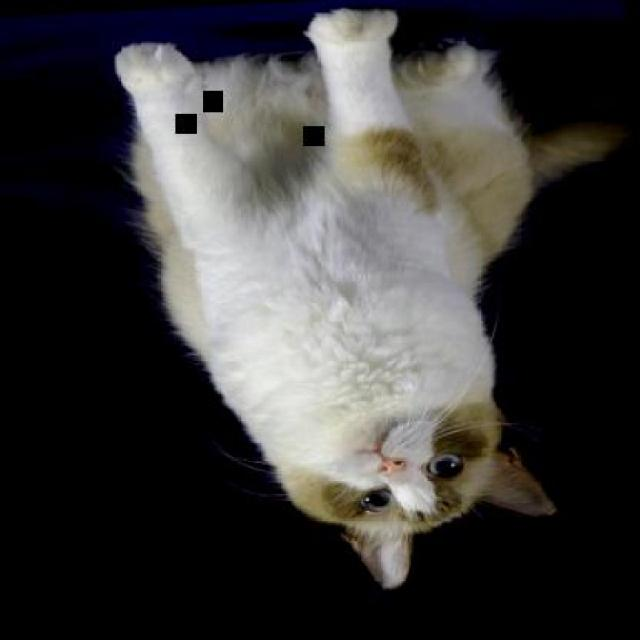cat: (110, 0, 638, 602)
